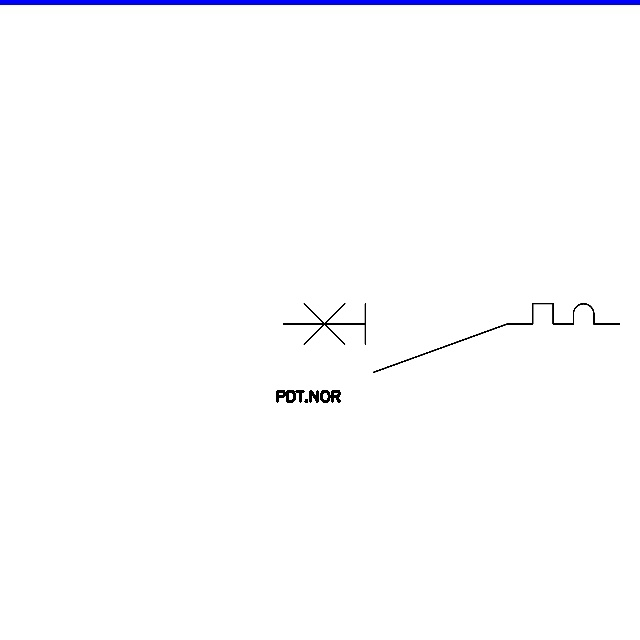interruptor_termomagnetico: (275, 295, 628, 381)
